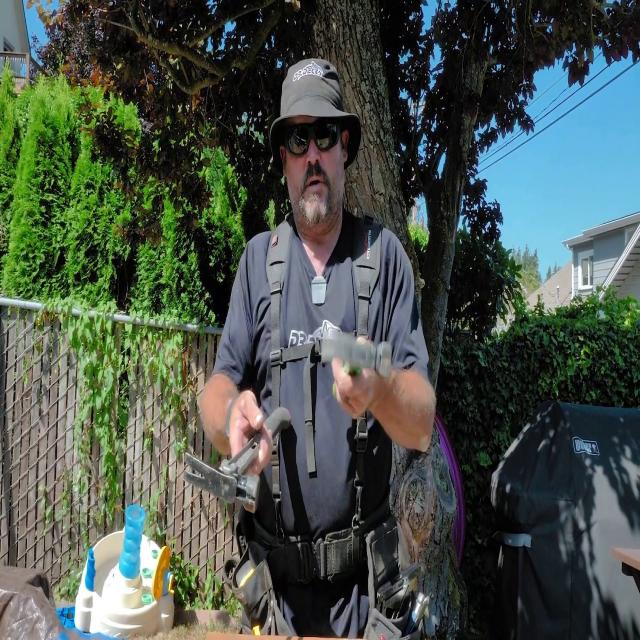hammer: (184, 407, 292, 513), (322, 329, 392, 400)
